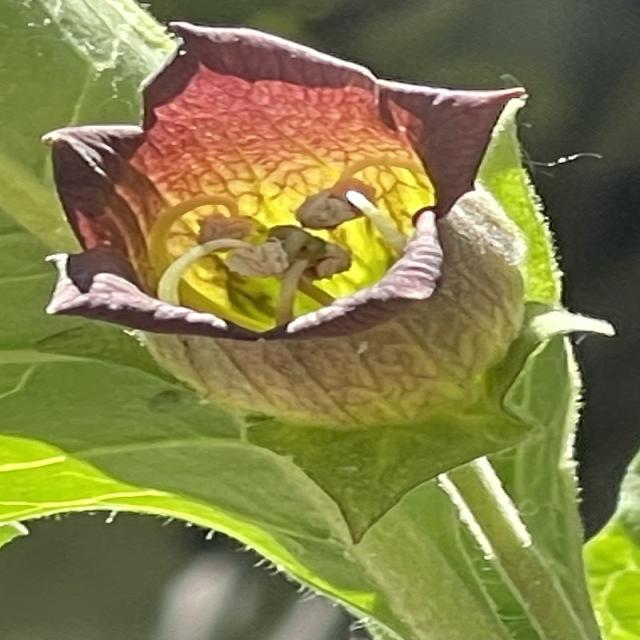Belladonna: (16, 20, 577, 574)
